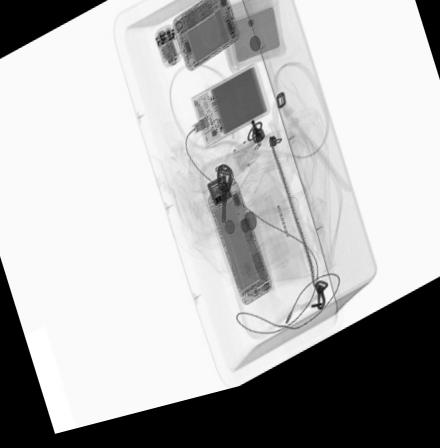Powerbank: (189, 74, 270, 159)
